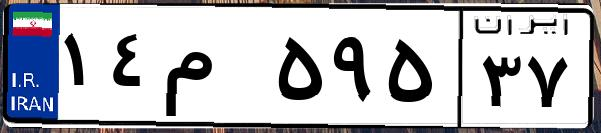1: (57, 26, 110, 100)
3: (475, 38, 525, 113)
4: (110, 28, 158, 98)
5: (270, 28, 330, 110), (385, 28, 445, 110)
7: (525, 38, 570, 115)
9: (330, 28, 385, 110)
م: (158, 20, 270, 120)
